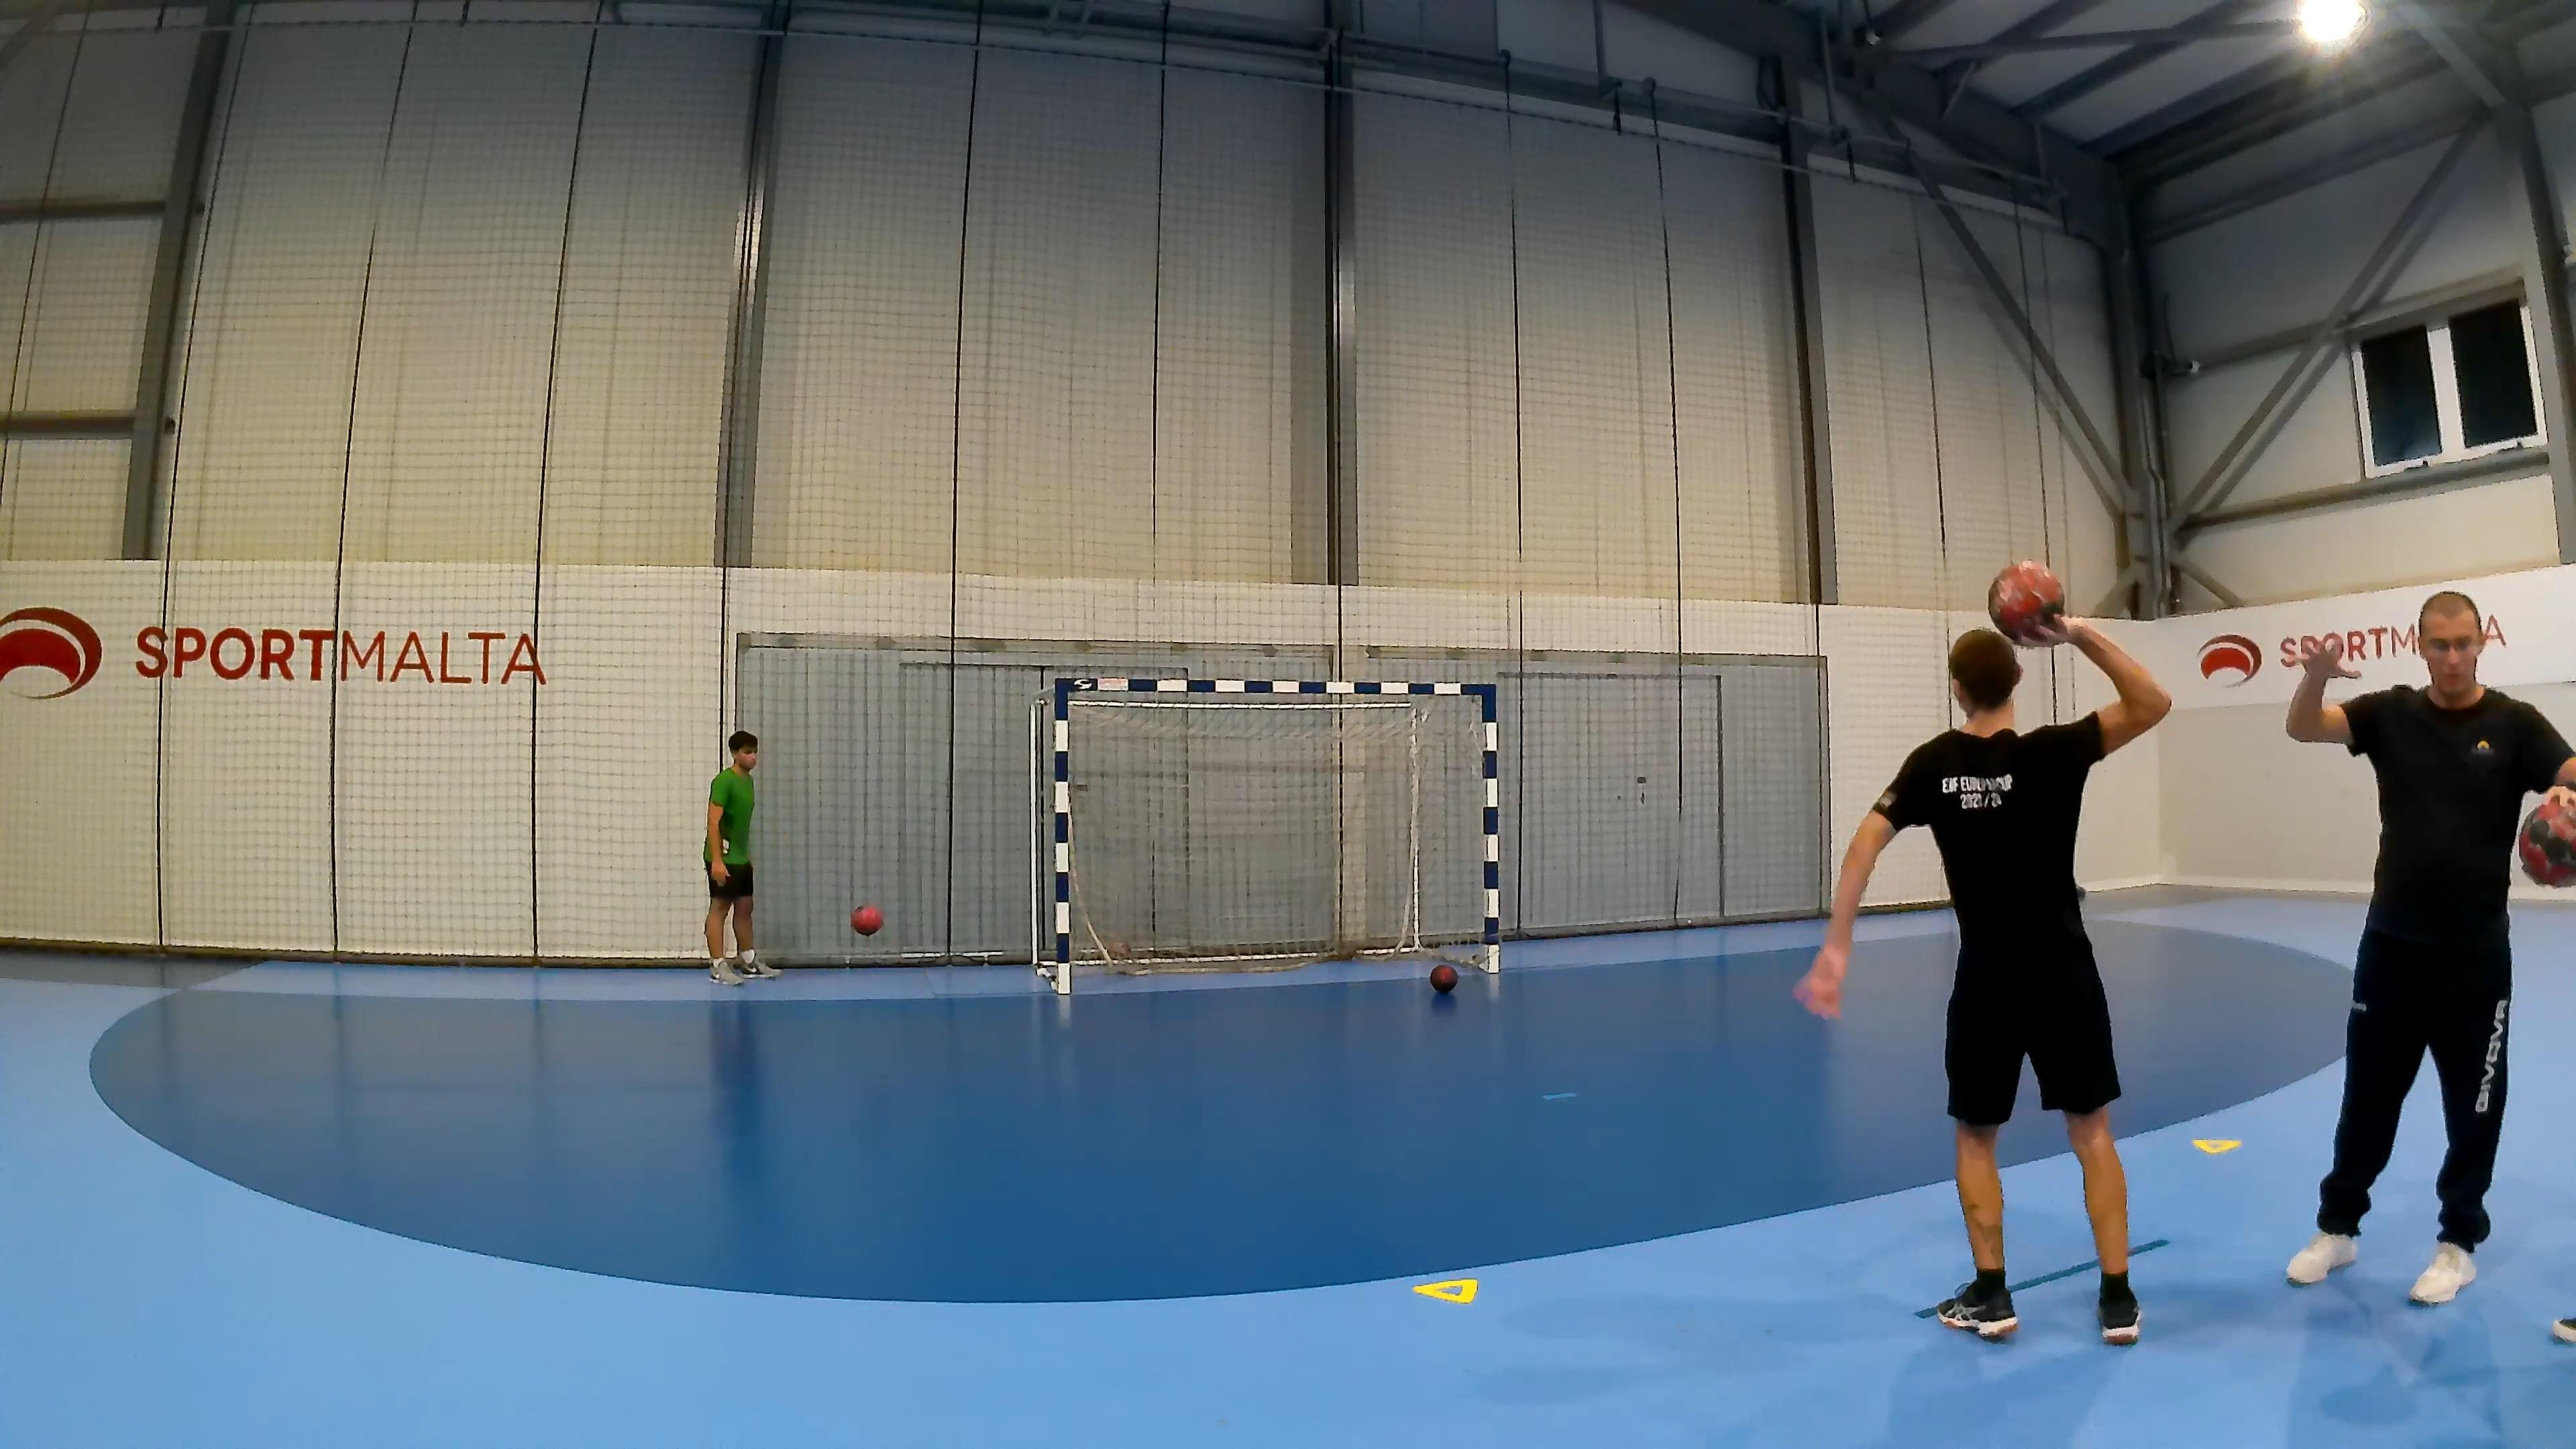handball: (1987, 557, 2065, 646), (2518, 791, 2576, 886), (849, 904, 883, 936), (1428, 962, 1456, 993)
